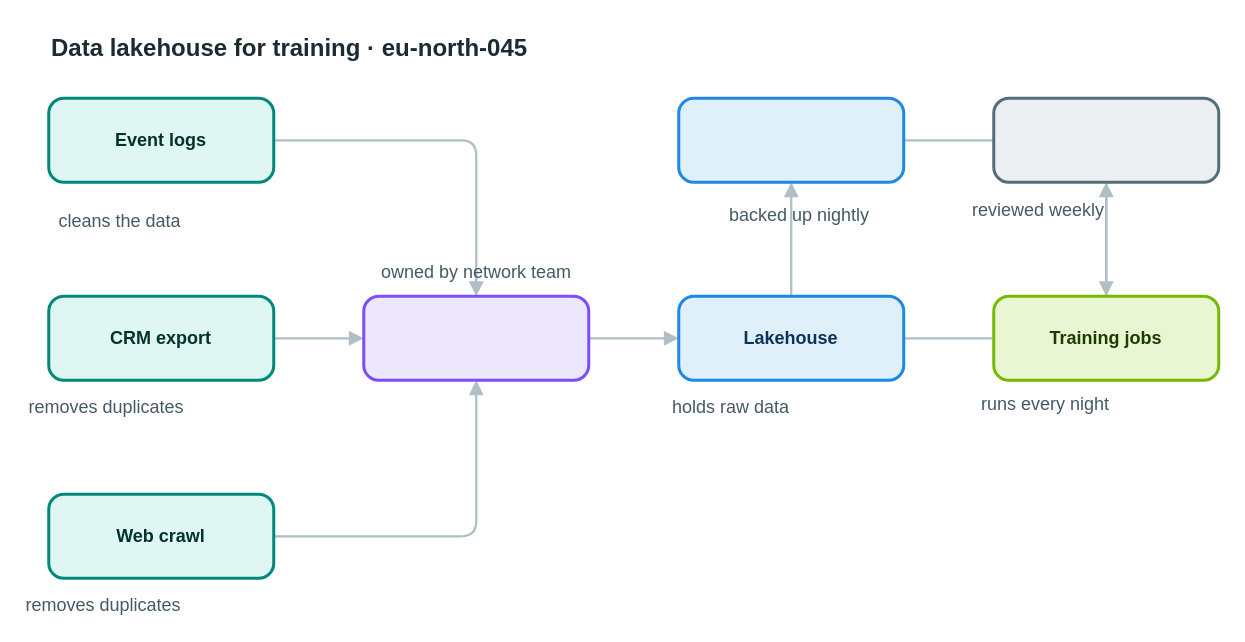
Some shapes in this 1245 by 642 pixel diagram are drawn without their labels. The shapes that lost their labels are listed below. From the top down, each one's centre as x and y in pixels, then its label:
(790,139): Feature store
(1106,139): Dashboards
(476,337): Stream bus
